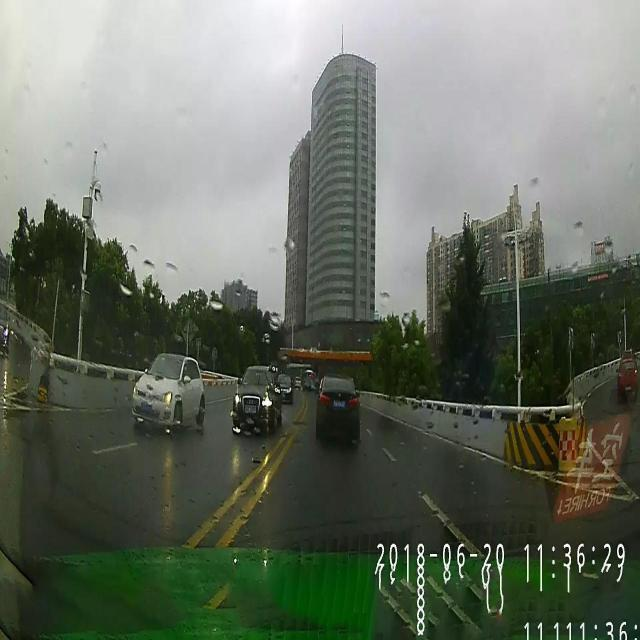car: (131, 352, 204, 436), (231, 364, 281, 435), (314, 377, 362, 448), (273, 376, 293, 406)
